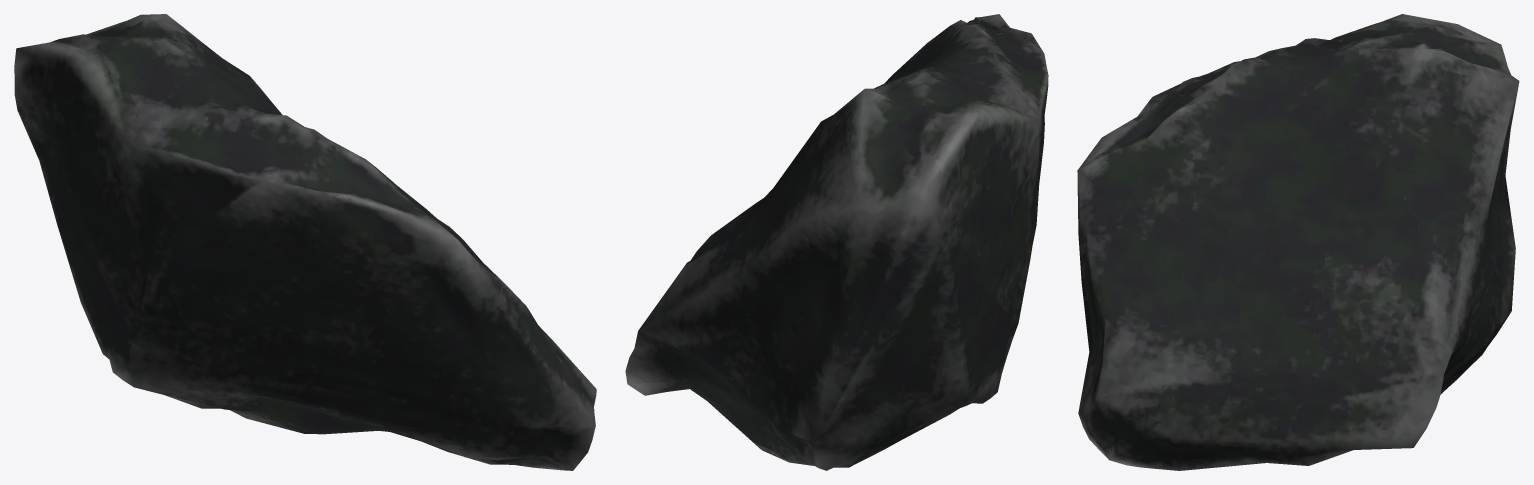
The model's file is rockDemo_04.glb.
3 views of the same model, side by side, from view 1: azimuth 30°, elevation 25°; view 2: azimuth 150°, elevation 25°; view 3: azimuth 270°, elevation 25° (orthographic). The views are drawn at different scales.
Parts seen in each view (by area): view 1: Rock_04; view 2: Rock_04; view 3: Rock_04.
Part boxes in pixels (box(x1,y1,x2,y2)): Rock_04: box(14, 14, 596, 470); Rock_04: box(625, 14, 1048, 470); Rock_04: box(1077, 14, 1519, 470).
Size of the model in its own units: 0.4231 by 0.4473 by 0.5323.
1 material, 1 textured.
